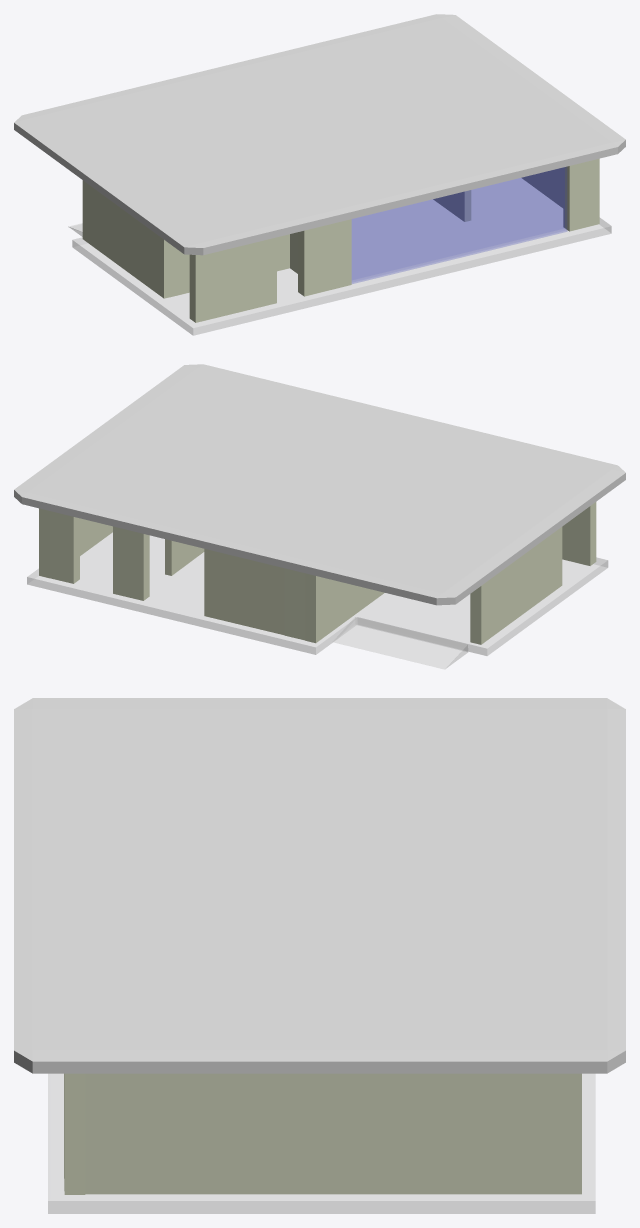
File: building124.glb
3 renders of one model, top to bottom at view 1: azimuth 30°, elevation 25°; view 2: azimuth 150°, elevation 25°; view 3: azimuth 270°, elevation 25°, orthographic. The views are drawn at different scales.
Visible parts, largest first — view 1: roof, floor, Walls, backyard-glass; view 2: roof, Walls, floor, Cube; view 3: roof, Walls, floor.
Boxes of the visible parts, box(x1,y1,x2,y2) form: roof: box(14, 14, 625, 255); floor: box(72, 178, 611, 335); Walls: box(82, 158, 599, 322); backyard-glass: box(352, 167, 567, 283); roof: box(14, 364, 625, 605); Walls: box(39, 502, 596, 644); floor: box(27, 532, 608, 655); Cube: box(333, 617, 468, 669); roof: box(14, 698, 625, 1073); Walls: box(64, 1073, 581, 1194); floor: box(48, 1073, 595, 1213).
Bounding box in the file's own units: 15.42 × 3.22 × 10.97.
